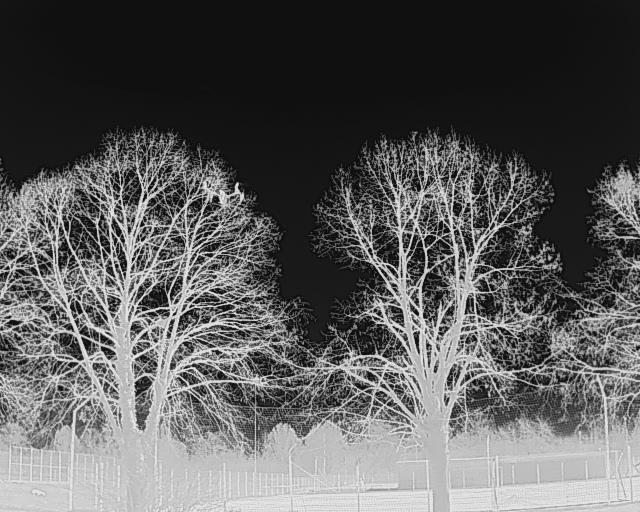drone: (193, 171, 255, 222)
